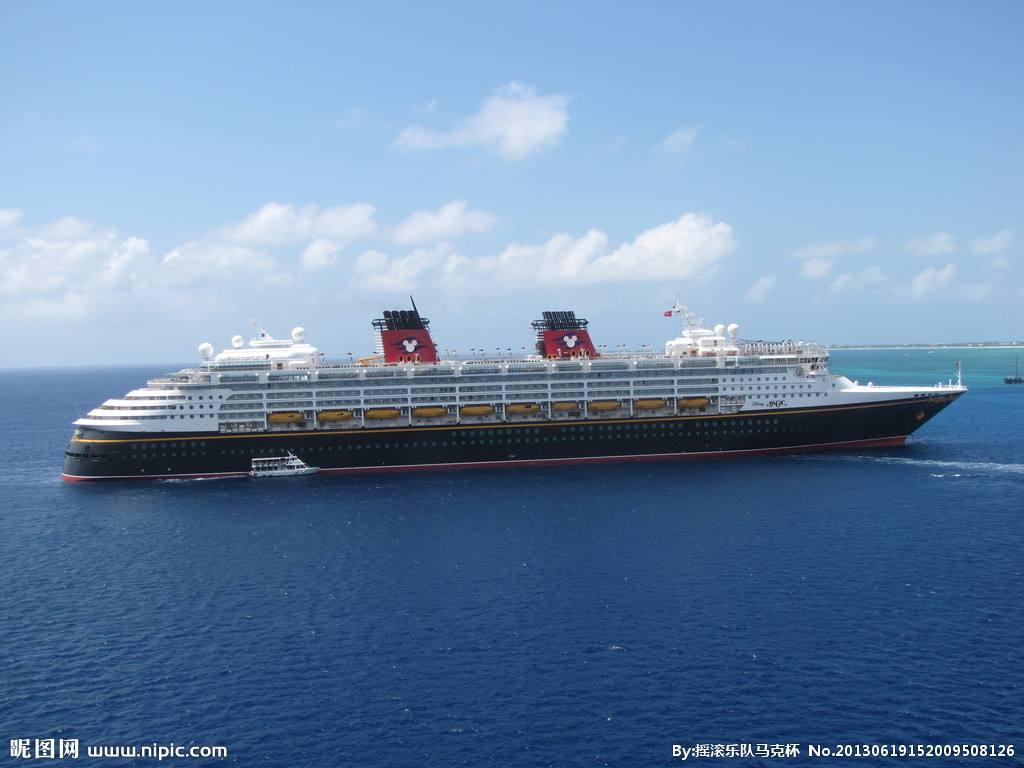youlun: (53, 284, 967, 487)
